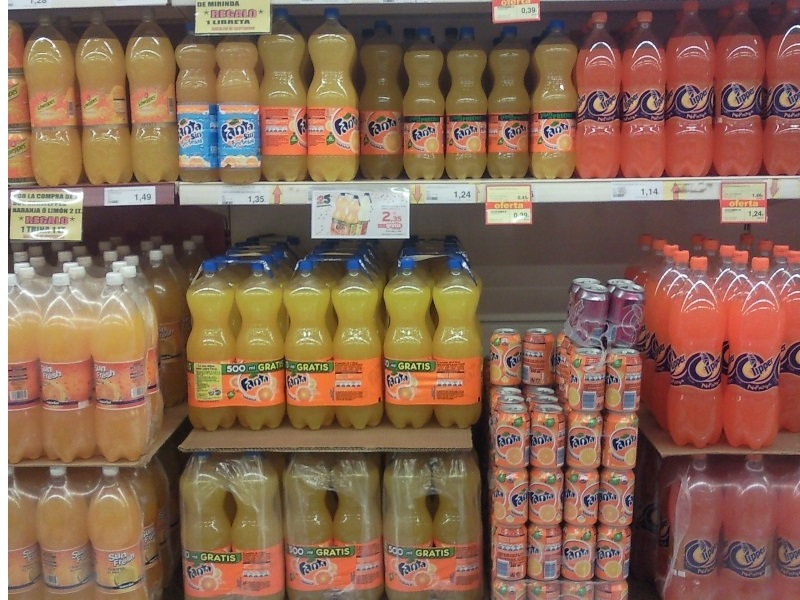lemonade: (16, 7, 93, 192), (725, 255, 793, 450), (71, 5, 141, 194), (373, 255, 444, 440), (668, 255, 733, 451), (120, 3, 188, 190), (276, 258, 344, 442), (425, 254, 494, 434), (177, 259, 244, 442), (656, 1, 722, 183), (327, 259, 392, 437), (227, 264, 293, 439), (709, 1, 769, 182), (304, 5, 363, 185), (617, 8, 675, 187), (528, 18, 588, 187), (568, 9, 625, 185), (351, 17, 410, 186), (482, 23, 541, 185), (393, 27, 448, 182), (440, 24, 492, 187)
